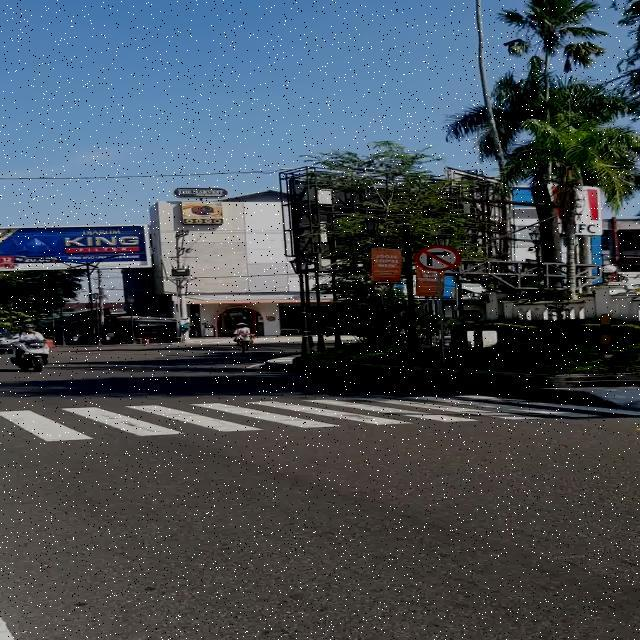Dilarang Belok Kanan: (415, 246, 461, 271)
